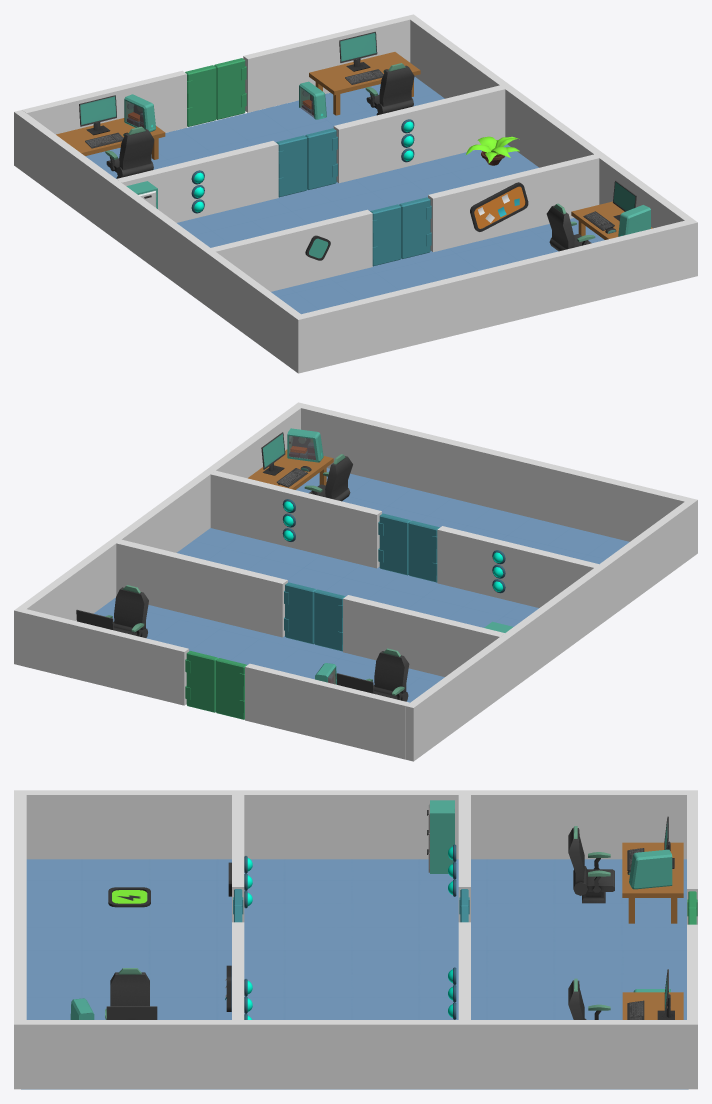
Rendered from maps 04.fbx.
3 renders of one model, top to bottom at view 1: azimuth 30°, elevation 25°; view 2: azimuth 150°, elevation 25°; view 3: azimuth 270°, elevation 25°, orthographic. The views are drawn at different scales.
Visible parts, largest first — view 1: polySurface144, polySurface195, polySurface196, polySurface191, polySurface192, polySurface194, polySurface199, polySurface198, polySurface193, table_2_geo, table_1_geo, polySurface6 (×3) (+5 smaller); view 2: polySurface144, polySurface195, polySurface196, polySurface191, polySurface193, polySurface194, polySurface192, polySurface197, polySurface198, polySurface199, polySurface6 (×3), polySurface2 (×3) (+3 smaller); view 3: polySurface144, polySurface191, polySurface196, table_1_geo, polySurface195, table_2_geo, table_3_geo, wardrobe_geo, polySurface198, polySurface199, polySurface192, polySurface194 (+3 smaller).
Boxes of the visible parts, box(x1,y1,x2,y2) form: polySurface144: box(85, 76, 604, 314); polySurface195: box(301, 220, 690, 371); polySurface196: box(14, 110, 305, 373); polySurface191: box(406, 14, 697, 277); polySurface192: box(333, 85, 505, 183); polySurface194: box(428, 154, 599, 252); polySurface199: box(211, 209, 372, 291); polySurface198: box(117, 141, 278, 222); polySurface193: box(243, 16, 410, 112); table_2_geo: box(299, 31, 420, 119); table_1_geo: box(56, 94, 165, 178); polySurface6 (×3): box(214, 58, 431, 258); polySurface144: box(94, 468, 629, 702); polySurface195: box(301, 404, 689, 541); polySurface196: box(405, 498, 697, 761); polySurface191: box(14, 402, 305, 665); polySurface193: box(22, 609, 188, 705); polySurface194: box(210, 470, 381, 568); polySurface192: box(116, 539, 287, 637); polySurface197: box(245, 663, 409, 759); polySurface198: box(343, 595, 504, 676); polySurface199: box(437, 526, 598, 607); polySurface6 (×3): box(185, 513, 410, 712); polySurface2 (×3): box(216, 520, 439, 719); polySurface144: box(21, 859, 688, 1089); polySurface191: box(14, 1020, 697, 1089); polySurface196: box(14, 790, 697, 859); table_1_geo: box(568, 816, 683, 923); polySurface195: box(14, 794, 26, 1019); table_2_geo: box(568, 969, 683, 1019); table_3_geo: box(70, 968, 157, 1019); wardrobe_geo: box(427, 800, 454, 873); polySurface198: box(458, 795, 470, 922); polySurface199: box(232, 794, 244, 922); polySurface192: box(458, 922, 470, 1019); polySurface194: box(232, 922, 244, 1019).
Bounding box in the file's own units: 69.23 × 10.09 × 85.35.
Materials: 10 (9 with a texture image).
